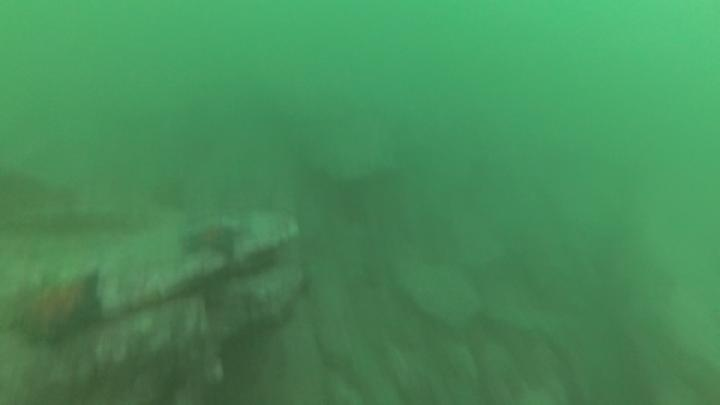starfish: (3, 267, 107, 349), (179, 219, 245, 265)
